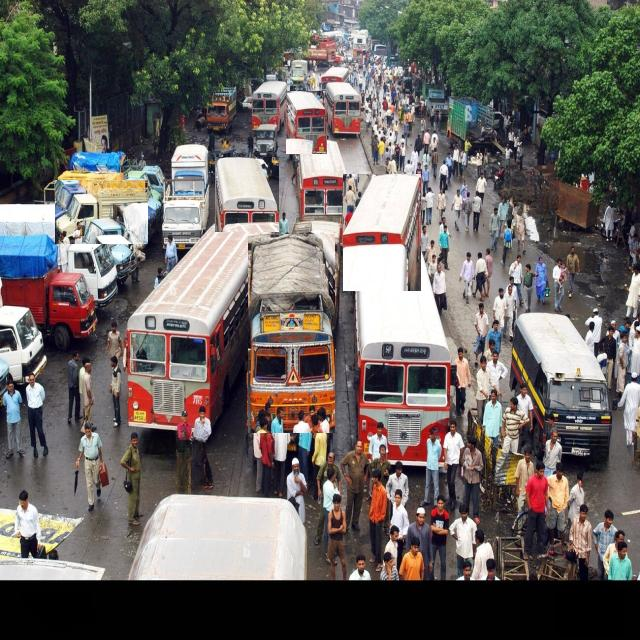autorickshaw: (208, 146, 232, 181)
bus: (126, 225, 271, 429), (355, 244, 451, 464), (510, 313, 611, 460), (343, 174, 420, 291), (215, 158, 279, 232), (298, 140, 346, 221), (286, 92, 326, 154), (325, 82, 361, 134), (251, 82, 288, 131)
car: (252, 124, 278, 158)
truck: (248, 235, 335, 433), (0, 203, 118, 307), (0, 233, 98, 350), (55, 180, 148, 244), (162, 145, 209, 248), (80, 220, 132, 284), (206, 87, 236, 133)
